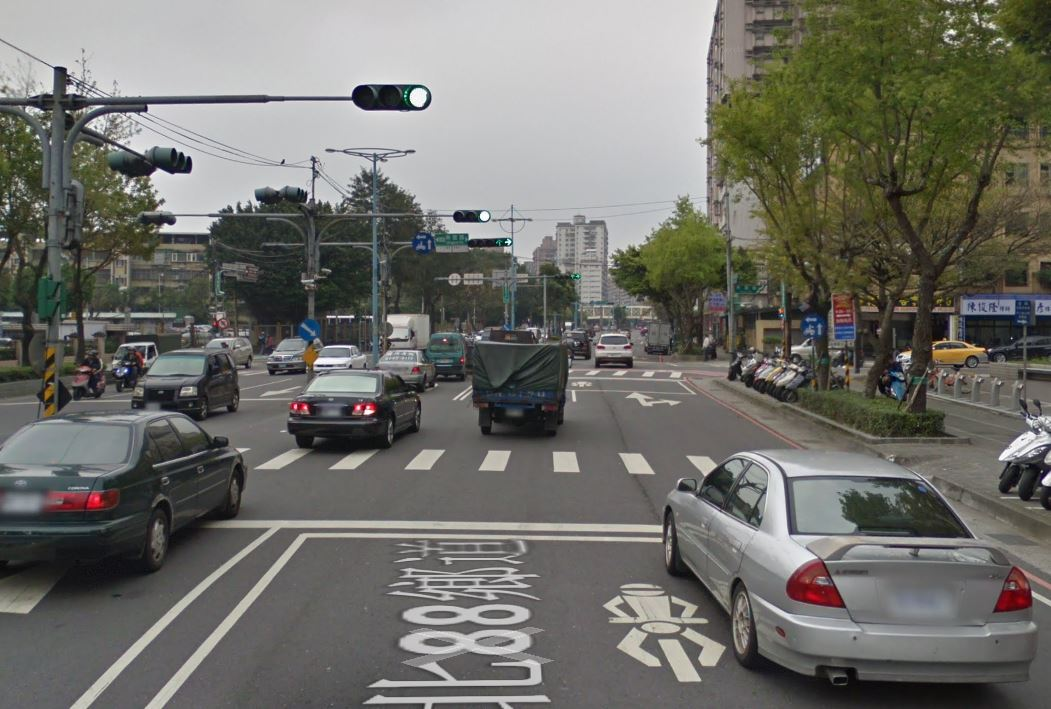Traffic_light_green: (352, 83, 434, 113), (451, 207, 489, 224)
car: (657, 440, 1038, 696), (1, 408, 254, 565), (286, 360, 429, 459)
